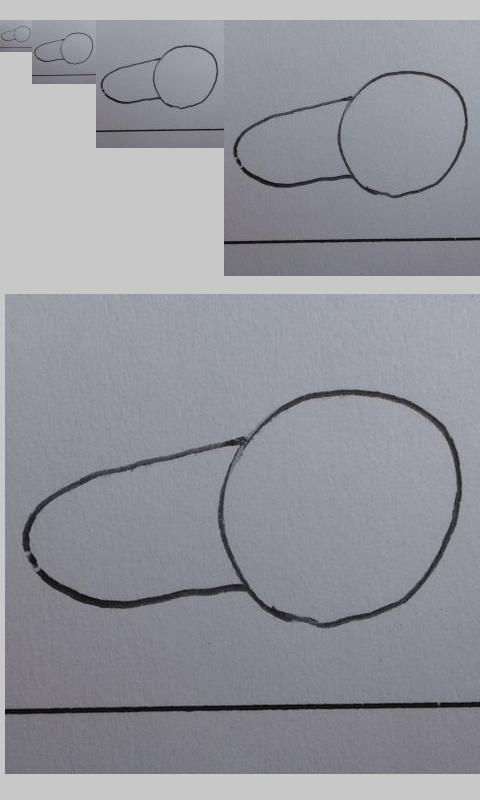switch: (22, 388, 465, 629), (232, 70, 468, 199), (101, 45, 219, 110), (34, 32, 94, 65), (1, 25, 32, 43)
